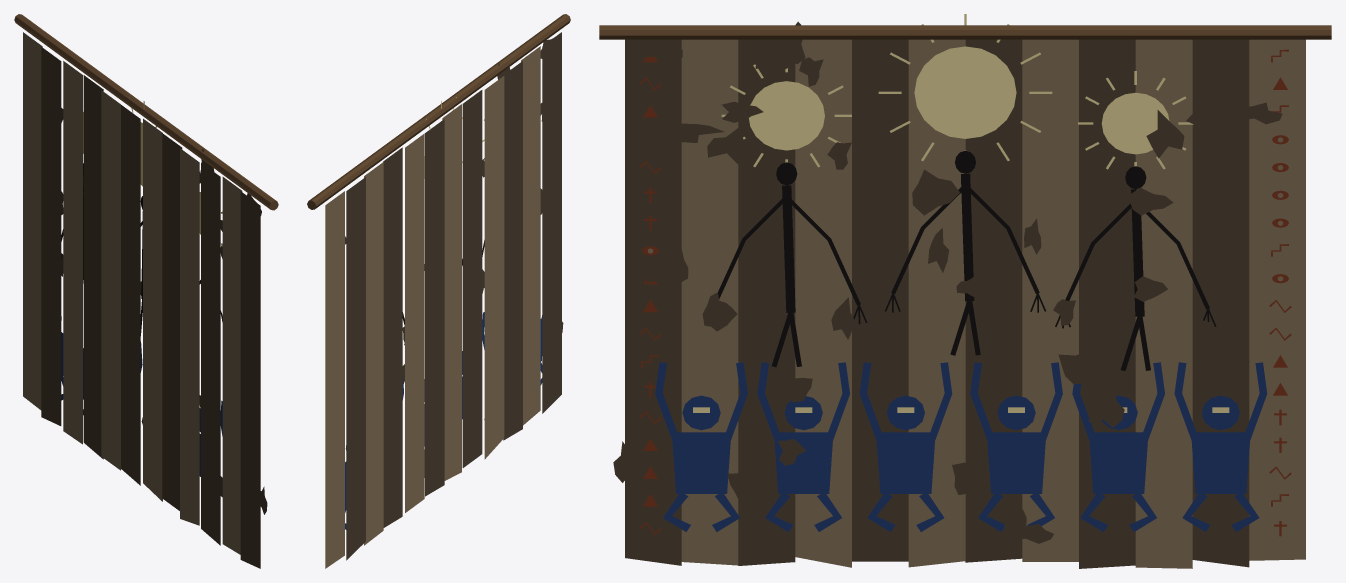
File: macchina_tapestry.glb
3 views of the same model, side by side, from view 1: azimuth 30°, elevation 25°; view 2: azimuth 150°, elevation 25°; view 3: azimuth 270°, elevation 25° (orthographic). The views are drawn at different scales.
Parts seen in each view (by area): view 1: teil0, teil1, teil2, teil5, teil4, teil3; view 2: teil0, teil1, teil2, teil5; view 3: teil0, teil1, teil5, teil3, teil2, teil4, teil6.
Part boxes in pixels (x1,y1,x2,y2): teil0: [41, 47, 267, 568]; teil1: [23, 32, 242, 554]; teil2: [14, 14, 278, 210]; teil5: [61, 316, 222, 476]; teil4: [61, 163, 222, 335]; teil3: [83, 97, 222, 246]; teil0: [345, 32, 563, 560]; teil1: [325, 46, 540, 568]; teil2: [307, 14, 570, 209]; teil5: [345, 312, 542, 529]; teil0: [613, 21, 1282, 568]; teil1: [647, 39, 1305, 568]; teil5: [655, 362, 1267, 531]; teil3: [693, 14, 1229, 412]; teil2: [599, 25, 1331, 39]; teil4: [718, 151, 1216, 370]; teil6: [639, 49, 1291, 536].
Bounding box in the file's own units: 0.0418 × 1.44 × 1.72.
